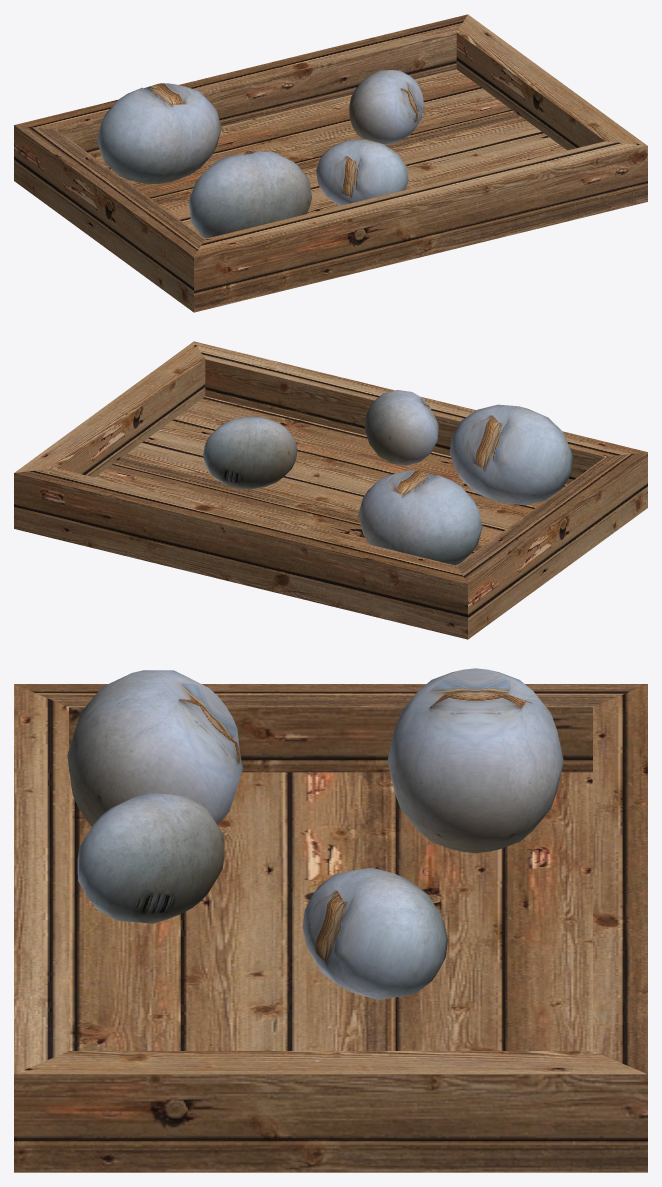
File: fruit_veg2.fbx
3 views of the same model, one above another, from view 1: azimuth 30°, elevation 25°; view 2: azimuth 150°, elevation 25°; view 3: azimuth 270°, elevation 25° (orthographic). The views are drawn at different scales.
Parts seen in each view (by area): view 1: fruit_veg1; view 2: fruit_veg1; view 3: fruit_veg1.
Part boxes in pixels (x1,y1,x2,y2): fruit_veg1: (14,14,647,312); fruit_veg1: (14,341,647,639); fruit_veg1: (14,668,647,1172).
Bounding box in the file's own units: 26.93 × 5.89 × 18.49.
